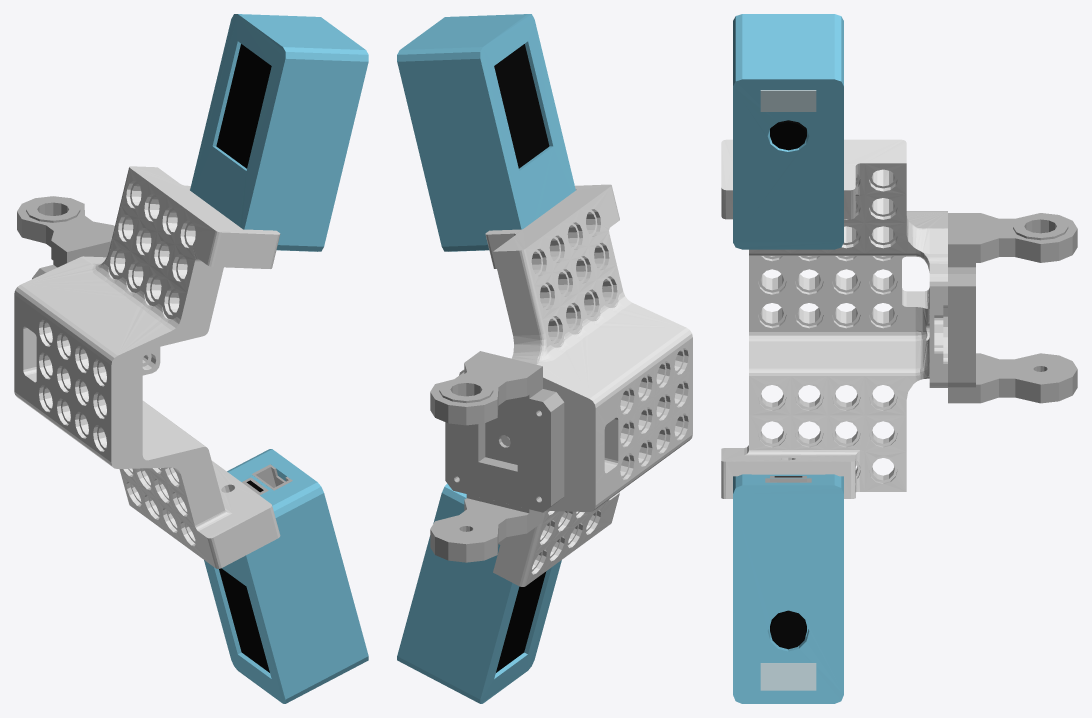
File: head-neck-p_mesh.glb
The picture shows the model from 3 angles, left to right: view 1: azimuth 30°, elevation 25°; view 2: azimuth 150°, elevation 25°; view 3: azimuth 270°, elevation 25°; orthographic projection. The views are drawn at different scales.
Visible parts, largest first — view 1: base2_M1KShape3, base2_M1KShape4, base2_M1KShape11, base2_M1KShape2, base2_M1KShape5, base2_M1KShape12; view 2: base2_M1KShape3, base2_M1KShape4, base2_M1KShape11, base2_M1KShape0, base2_M1KShape2, base2_M1KShape1, base2_M1KShape5, base2_M1KShape12; view 3: base2_M1KShape3, base2_M1KShape4, base2_M1KShape11, base2_M1KShape2, base2_M1KShape1, base2_M1KShape0, base2_M1KShape14, base2_M1KShape7, base2_M1KShape13, base2_M1KShape6.
Boxes of the visible parts, x1=… form: base2_M1KShape3: x1=14, y1=166, x2=280, y2=568; base2_M1KShape4: x1=190, y1=14, x2=368, y2=251; base2_M1KShape11: x1=204, y1=449, x2=368, y2=703; base2_M1KShape2: x1=17, y1=196, x2=114, y2=267; base2_M1KShape5: x1=216, y1=44, x2=271, y2=168; base2_M1KShape12: x1=219, y1=568, x2=269, y2=672; base2_M1KShape3: x1=459, y1=184, x2=692, y2=586; base2_M1KShape4: x1=397, y1=14, x2=575, y2=251; base2_M1KShape11: x1=397, y1=483, x2=561, y2=703; base2_M1KShape0: x1=445, y1=372, x2=564, y2=512; base2_M1KShape2: x1=430, y1=351, x2=542, y2=425; base2_M1KShape1: x1=430, y1=494, x2=542, y2=562; base2_M1KShape5: x1=494, y1=44, x2=549, y2=168; base2_M1KShape12: x1=496, y1=571, x2=546, y2=672; base2_M1KShape3: x1=721, y1=139, x2=947, y2=498; base2_M1KShape4: x1=733, y1=14, x2=843, y2=249; base2_M1KShape11: x1=733, y1=474, x2=843, y2=703; base2_M1KShape2: x1=948, y1=213, x2=1077, y2=267; base2_M1KShape1: x1=948, y1=353, x2=1077, y2=403; base2_M1KShape0: x1=948, y1=267, x2=975, y2=387; base2_M1KShape14: x1=760, y1=663, x2=816, y2=690; base2_M1KShape7: x1=760, y1=90, x2=816, y2=111; base2_M1KShape13: x1=770, y1=610, x2=806, y2=649; base2_M1KShape6: x1=770, y1=120, x2=806, y2=150.
Bounding box in the file's own units: 0.0642 × 0.1603 × 0.077.
